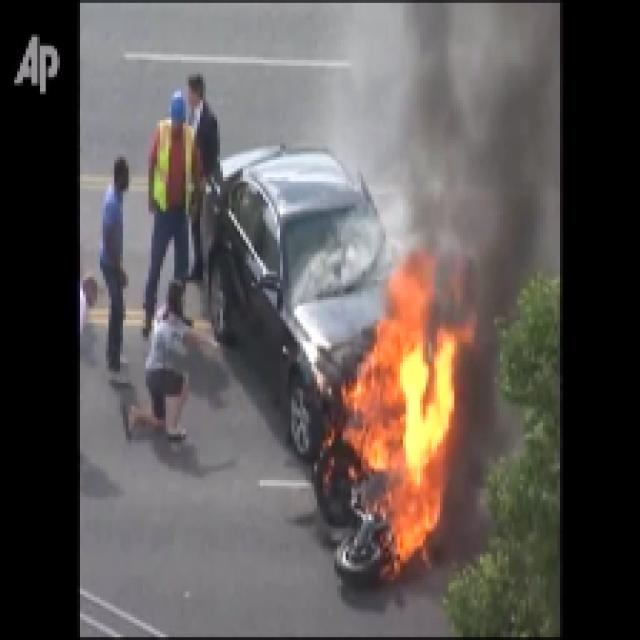fire: (352, 322, 448, 561)
smoke: (415, 23, 546, 279)
